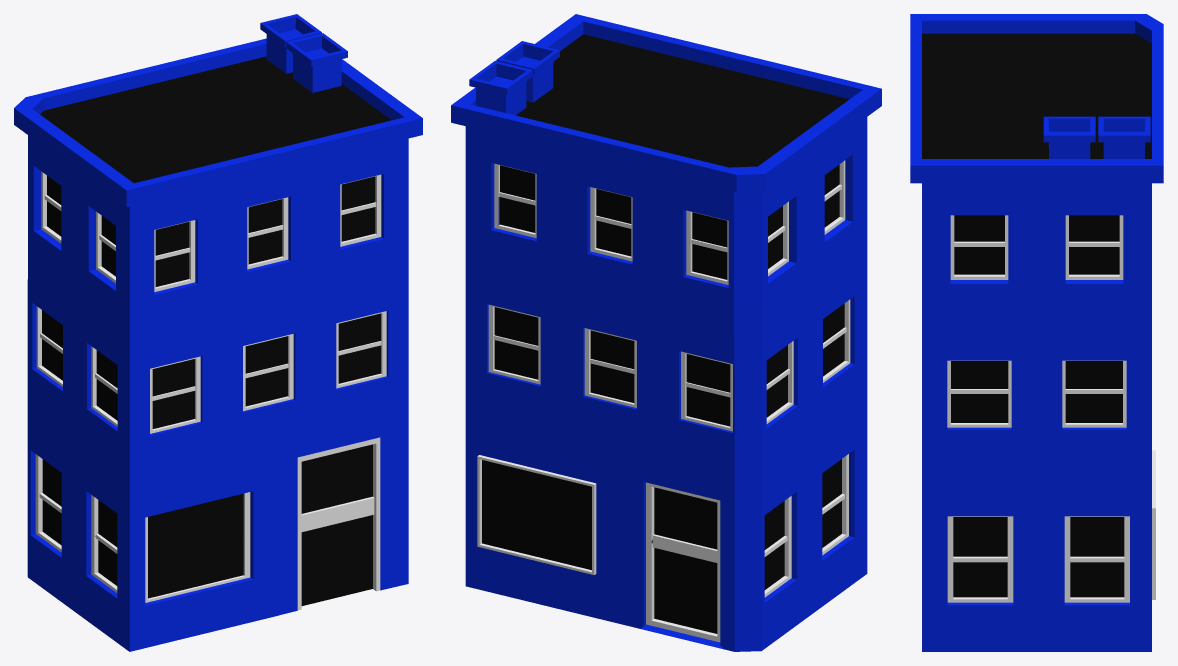
Rendered from Blue Building.fbx.
3 views of the same model, side by side, from view 1: azimuth 30°, elevation 25°; view 2: azimuth 150°, elevation 25°; view 3: azimuth 270°, elevation 25° (orthographic). The views are drawn at different scales.
Parts seen in each view (by area): view 1: Blue Building; view 2: Blue Building; view 3: Blue Building.
Boxes of the visible parts, <box> form: Blue Building: <box>14,14,422,651</box>; Blue Building: <box>451,14,881,651</box>; Blue Building: <box>910,14,1163,651</box>.
Size of the model in its own units: 7.52 by 11.91 by 5.31.
